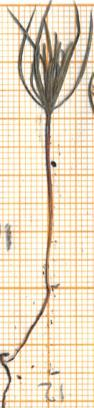flower: (5, 0, 94, 113)
root: (0, 289, 55, 408)
stem: (39, 117, 56, 286)
